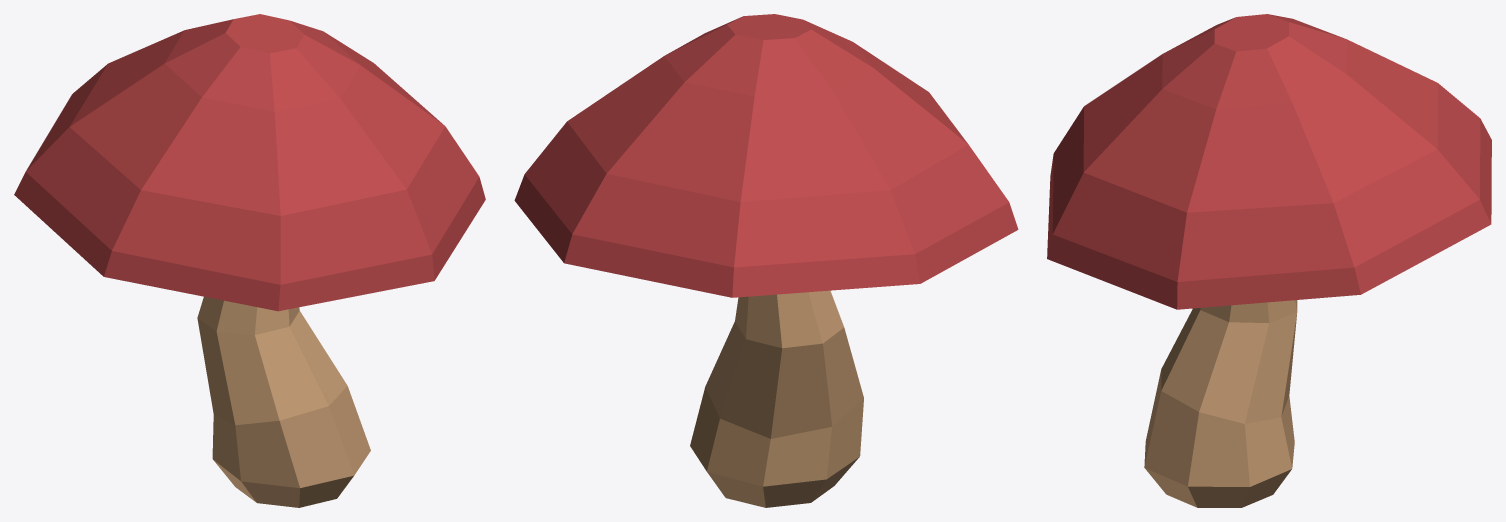
File: mushroom1.fbx
3 views of the same model, side by side, from view 1: azimuth 30°, elevation 25°; view 2: azimuth 150°, elevation 25°; view 3: azimuth 270°, elevation 25° (orthographic). The views are drawn at different scales.
Parts seen in each view (by area): view 1: mushroom2_LOD0; view 2: mushroom2_LOD0; view 3: mushroom2_LOD0.
Boxes of the visible parts, x1,y1,x2,y2 form: mushroom2_LOD0: (14,14,485,507); mushroom2_LOD0: (514,14,1018,507); mushroom2_LOD0: (1047,14,1491,507).
Size of the model in its own units: 0.9879 by 1.1 by 0.9825.
